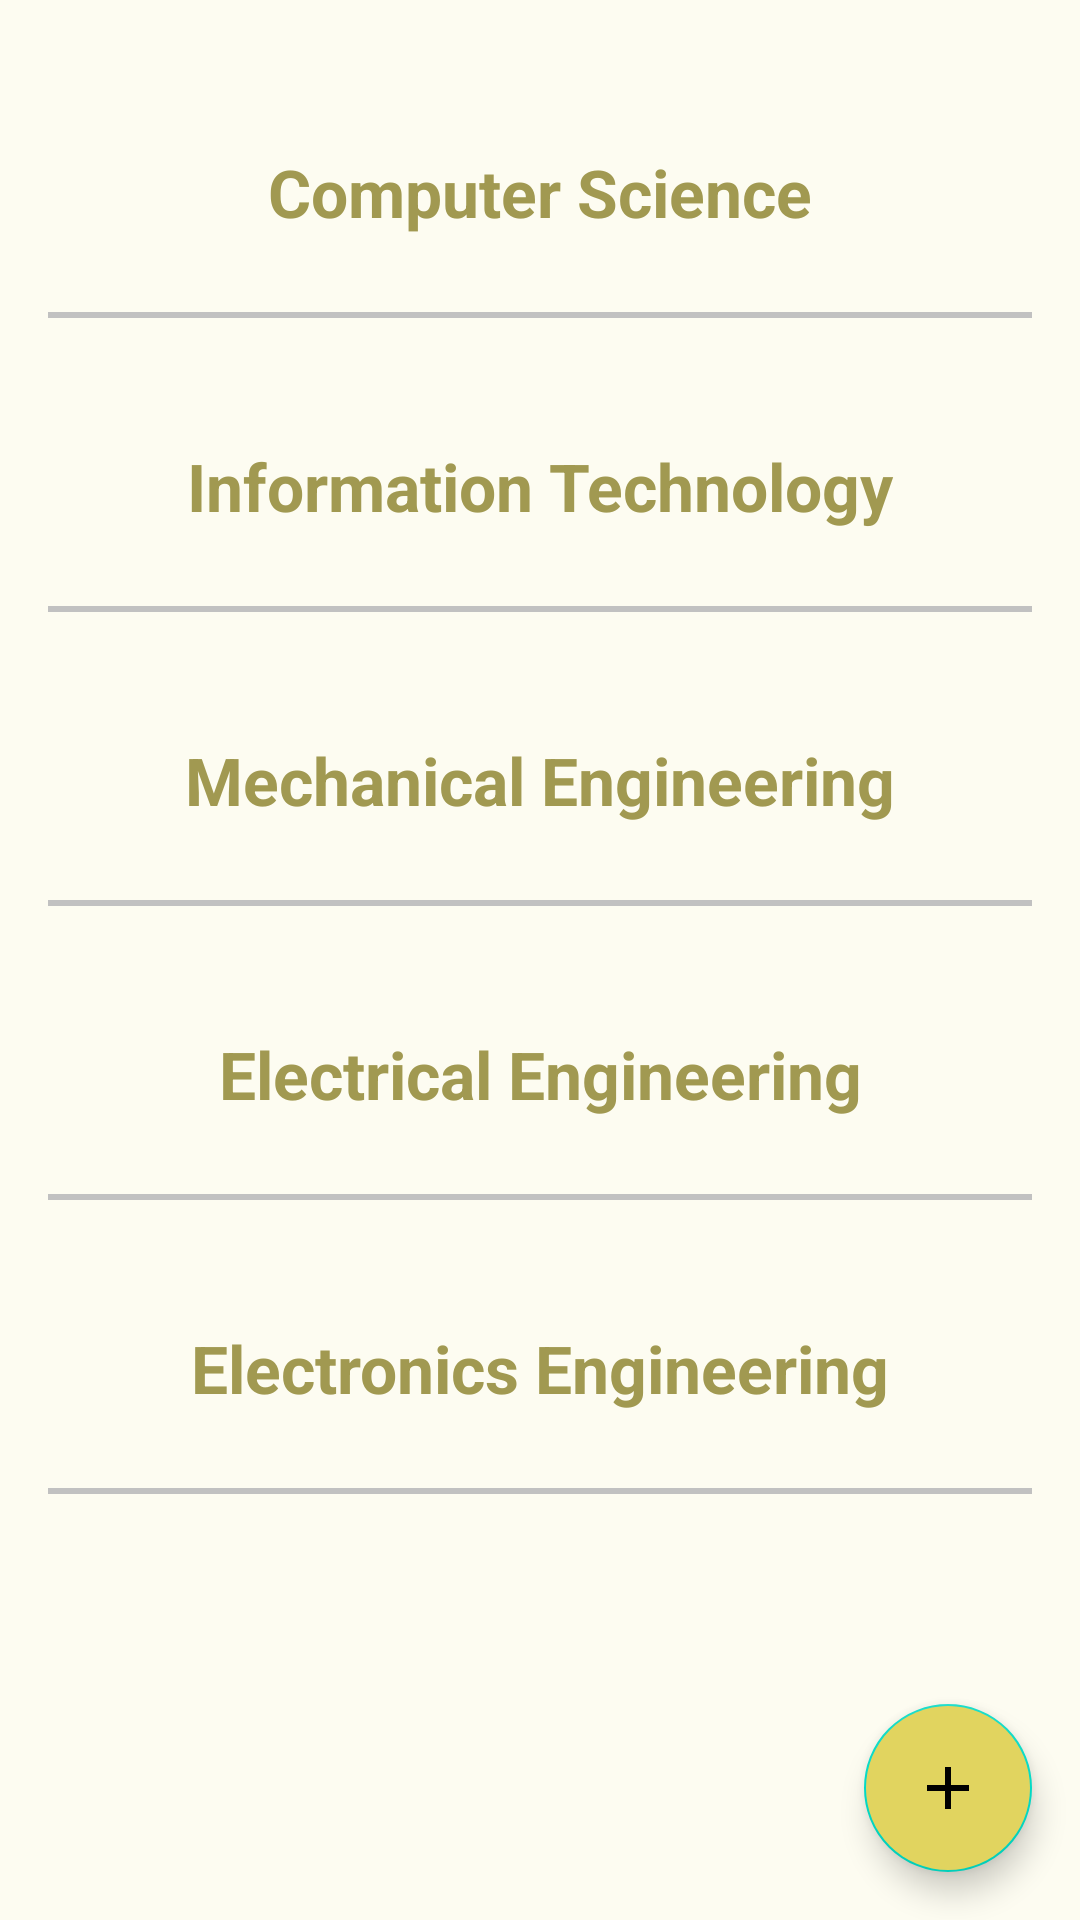

Where to tap for icons on this 1080 x 1920 app screen, as (x=x, y=y):
Action: (x=948, y=1788)
